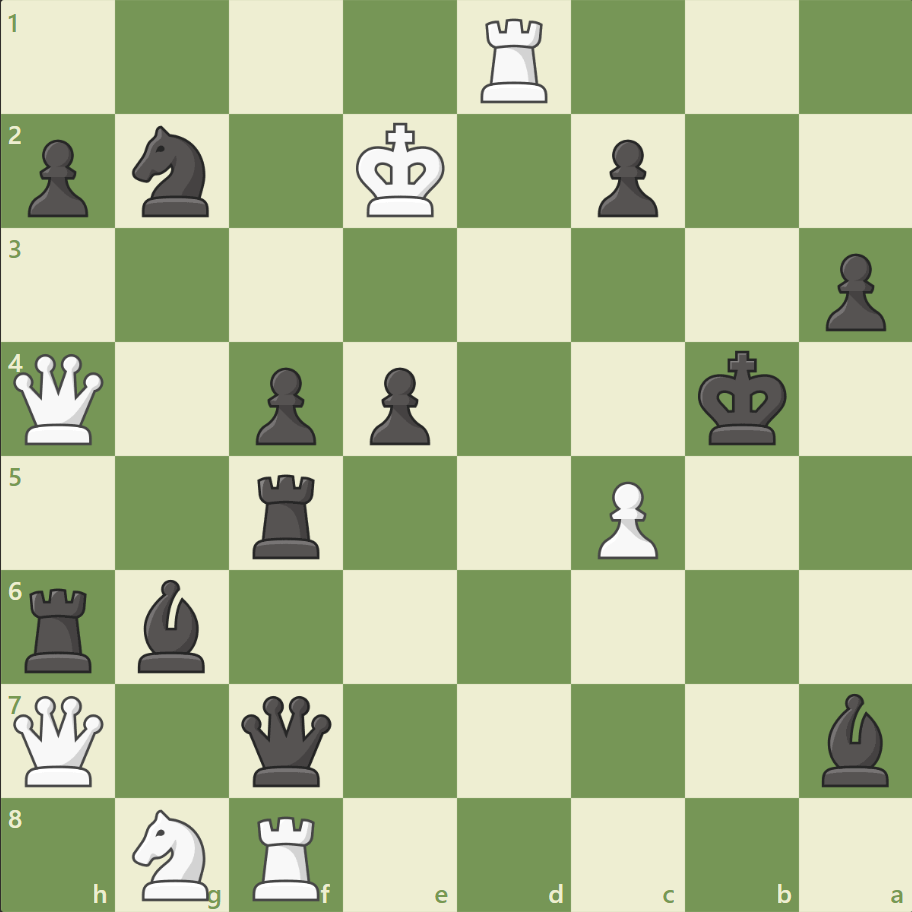K: (351, 117, 451, 225)
N: (124, 802, 222, 904)
P: (588, 473, 662, 564)
Q: (10, 349, 109, 449), (10, 690, 109, 789)
R: (246, 806, 329, 904), (473, 12, 556, 109)
b: (812, 687, 896, 790), (131, 574, 215, 676)
k: (692, 344, 792, 452)
n: (124, 121, 222, 223)
p: (247, 359, 322, 450), (20, 132, 95, 223), (361, 359, 435, 450), (815, 246, 889, 337), (588, 132, 662, 223)
q: (237, 690, 336, 789)
r: (19, 579, 102, 676), (246, 466, 329, 563)
